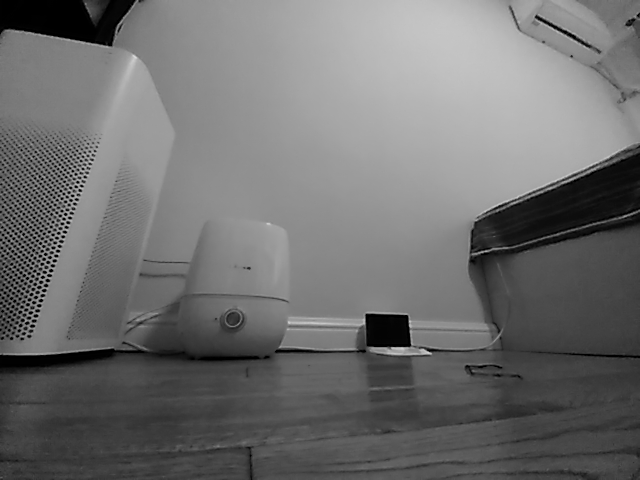TanosV: (362, 313, 432, 358)
wire: (414, 296, 515, 355), (120, 296, 181, 356)
